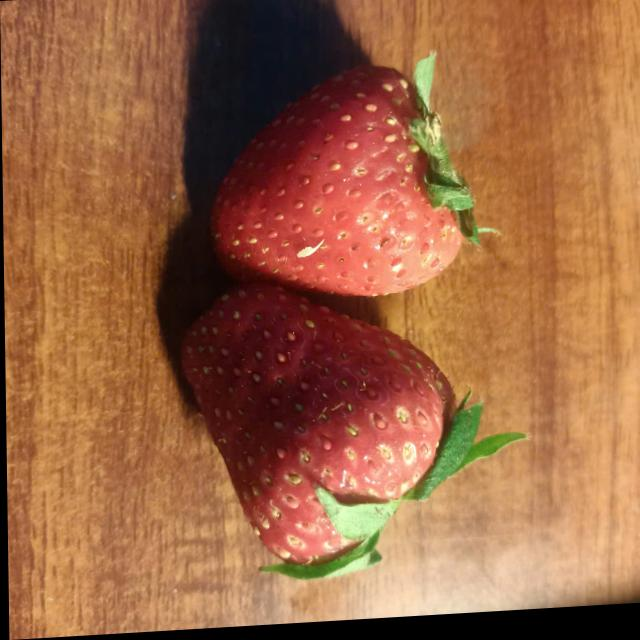DauTay: (179, 283, 545, 596), (200, 33, 517, 299)
